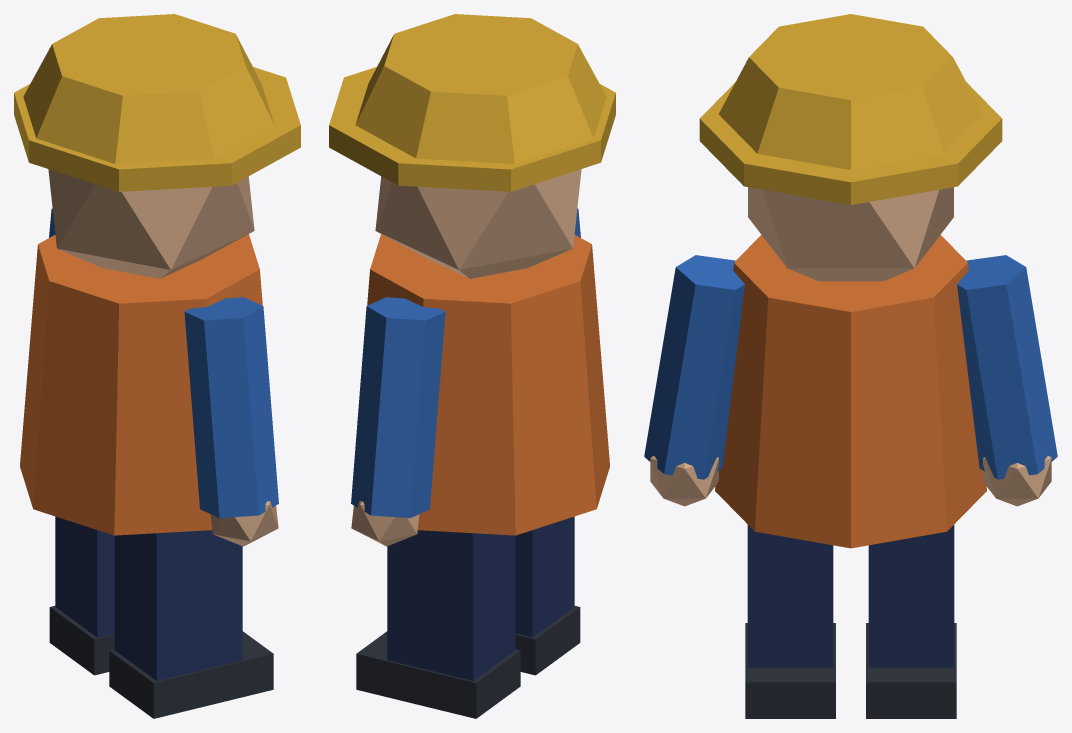
Rendered from docker.glb.
3 views of the same model, side by side, from view 1: azimuth 30°, elevation 25°; view 2: azimuth 150°, elevation 25°; view 3: azimuth 270°, elevation 25° (orthographic).
Visible parts, largest first — view 1: docker; view 2: docker; view 3: docker.
Boxes of the visible parts, x1,y1,x2,y2 form: docker: (14, 14, 300, 718); docker: (329, 14, 615, 718); docker: (644, 14, 1057, 718).
Bounding box in the file's own units: 0.6 × 1.37 × 0.821.
